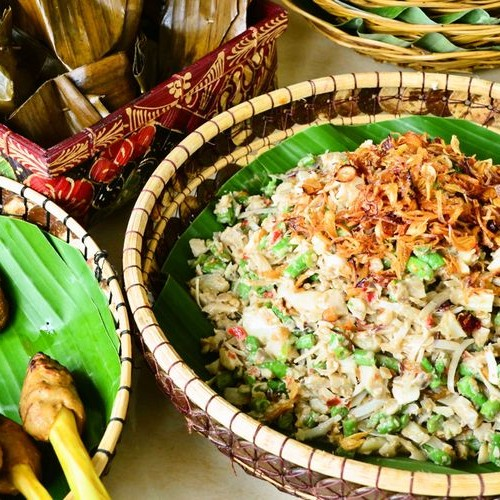lawar: (240, 261, 500, 411)
